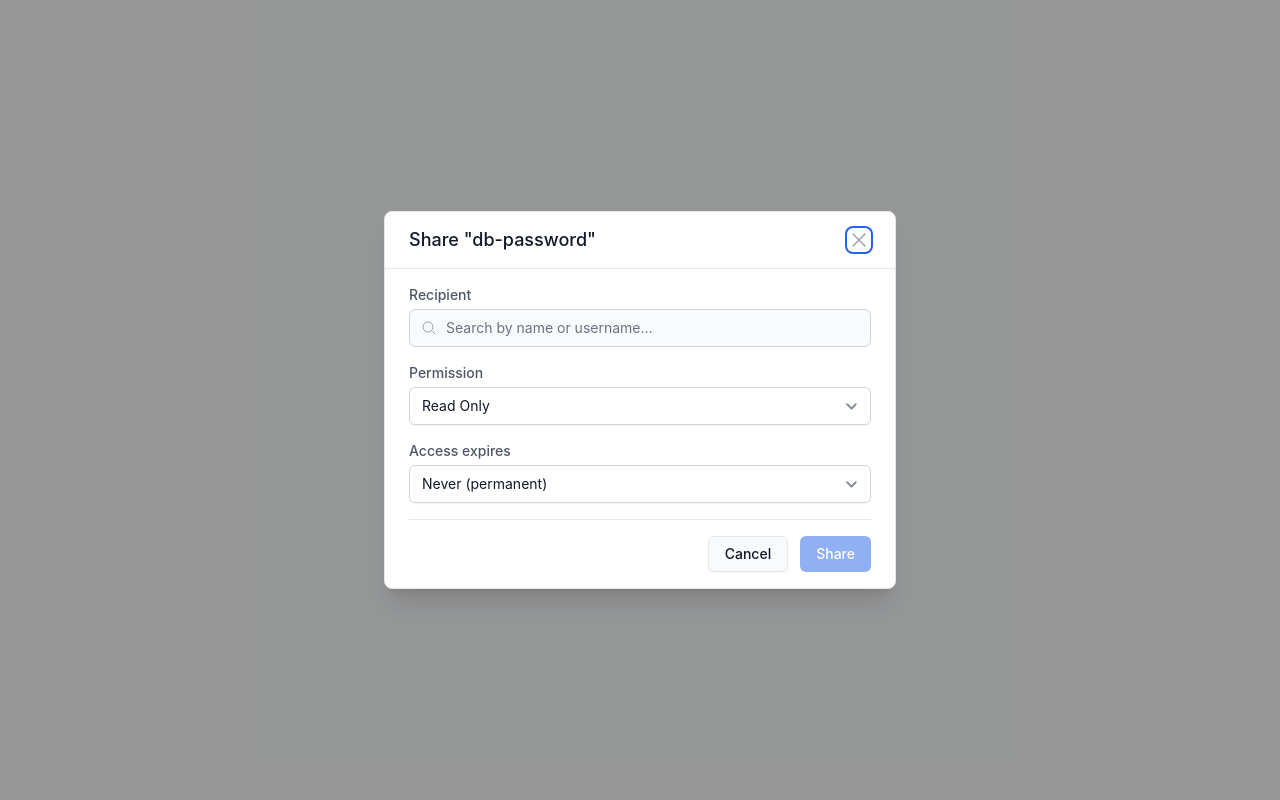
Test: ShareSecretModal recipient search › clears results and stops loading when the user search rejects
Step 1. Type "bob" into the field with placeholder "Search by name or username…" → (640, 328), box [409,309,871,347]
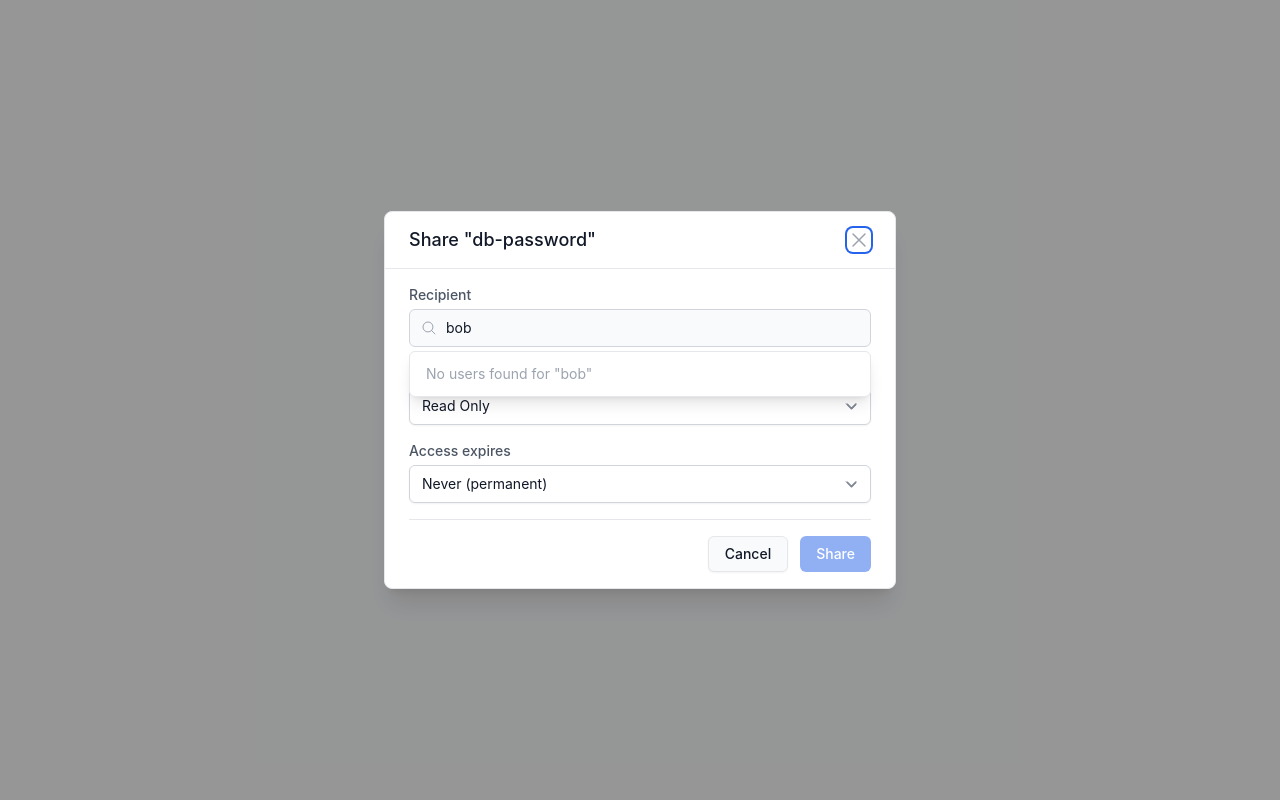
Expected: the text "No users found for \"bob\"" is shown, [426,365,592,382]
